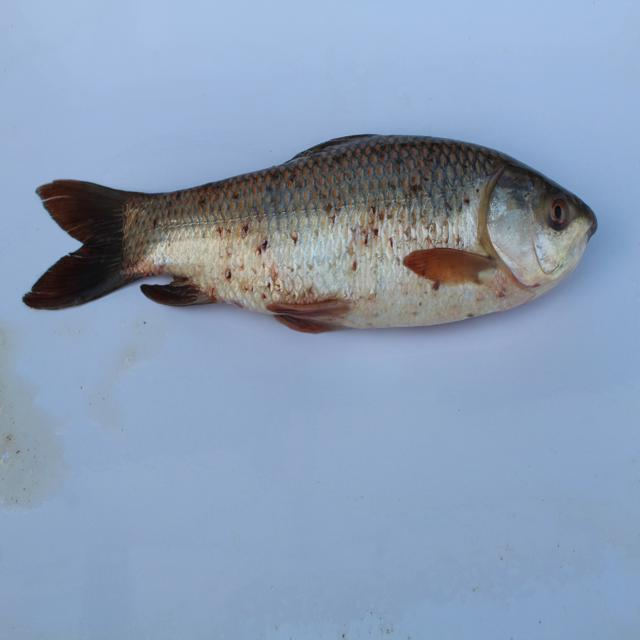Rohu: (29, 135, 605, 336)
